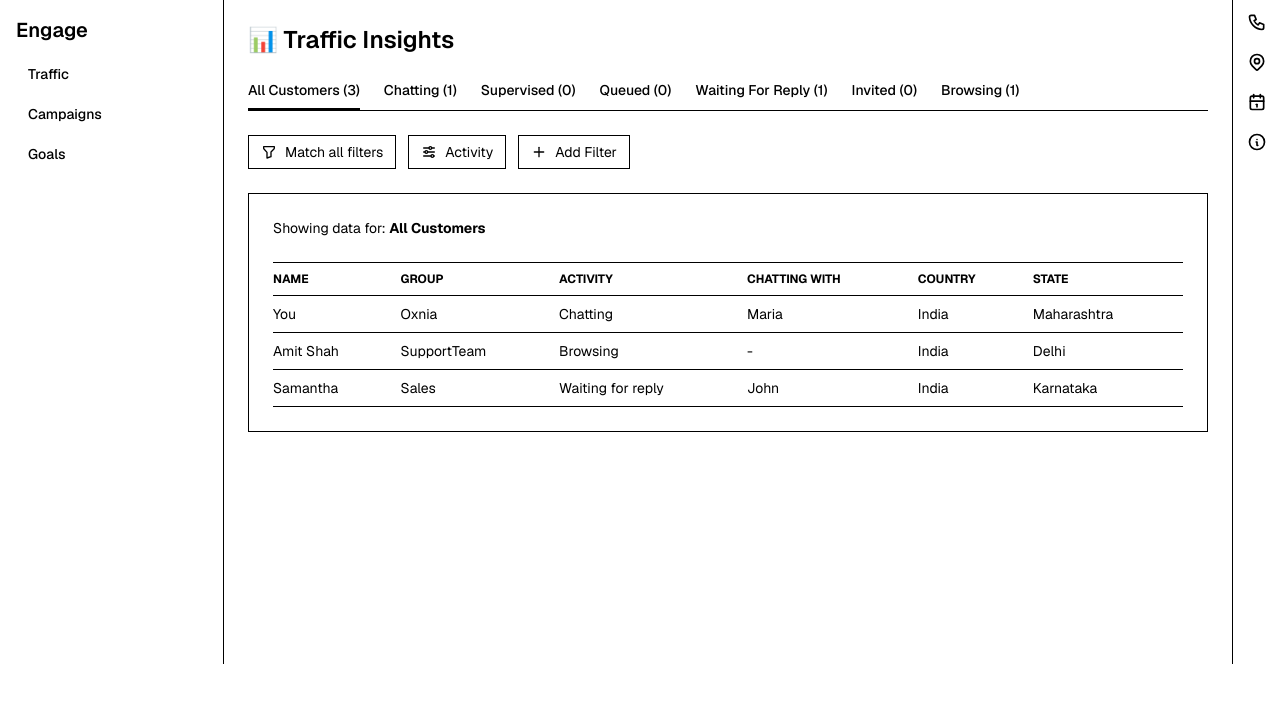
EngagePage › switches to the goals view
Step 1. Click the button "goals" → (112, 154), box [16,136,207,172]
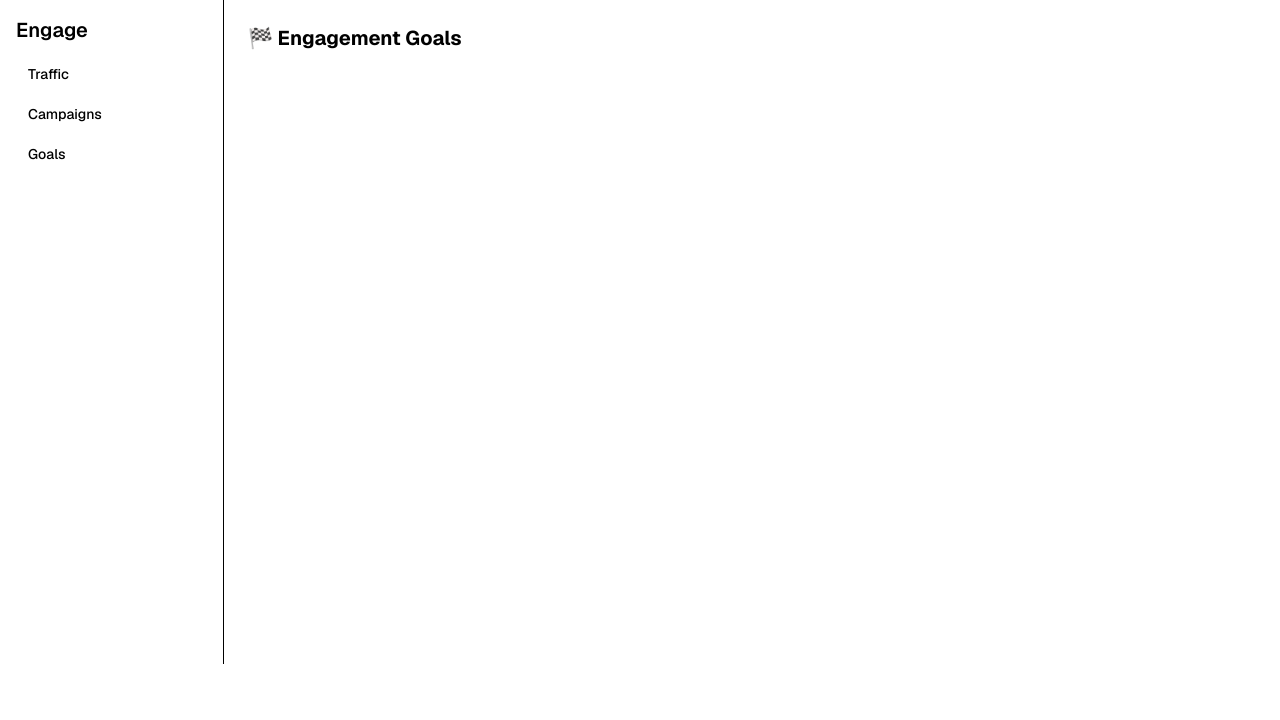
Check: the text "🏁 Engagement Goals" is shown, box [248,25,462,51]
Check: the heading "📊 Traffic Insights" is gone
